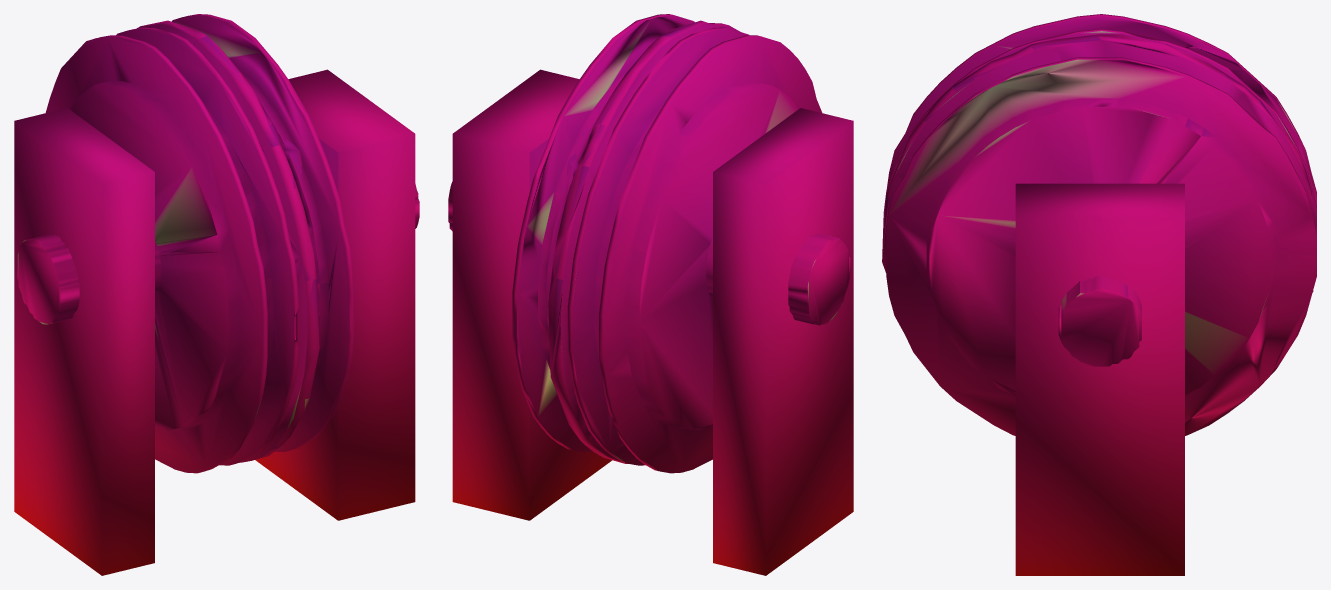
File: wl_oil_derrick.glb
The picture shows the model from 3 angles, left to right: view 1: azimuth 30°, elevation 25°; view 2: azimuth 150°, elevation 25°; view 3: azimuth 270°, elevation 25°; orthographic projection. The views are drawn at different scales.
Visible parts, largest first — view 1: wl_oil_derrick; view 2: wl_oil_derrick; view 3: wl_oil_derrick.
Boxes of the visible parts, <box> form: wl_oil_derrick: <box>14,14,419,575</box>; wl_oil_derrick: <box>448,14,853,575</box>; wl_oil_derrick: <box>882,14,1316,575</box>.
Bounding box in the file's own units: 0.7279 × 0.9184 × 0.7894.
